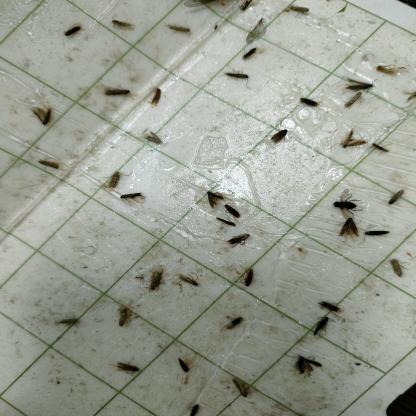prays_oleae: (102, 73, 132, 106), (287, 351, 317, 382), (226, 368, 251, 405), (113, 349, 140, 383), (140, 85, 165, 121), (34, 152, 64, 182), (346, 70, 378, 98), (54, 308, 84, 334), (340, 123, 366, 151), (34, 92, 52, 131), (376, 52, 400, 81), (145, 262, 165, 296), (143, 127, 169, 153), (174, 267, 202, 291), (312, 311, 333, 343), (316, 292, 342, 317), (246, 18, 271, 44), (359, 222, 388, 244), (369, 134, 391, 162), (385, 183, 406, 212), (338, 215, 360, 242), (115, 300, 135, 329), (176, 351, 195, 381), (387, 251, 405, 282), (164, 19, 192, 38), (223, 64, 252, 82), (109, 15, 135, 35), (224, 230, 250, 250), (342, 92, 368, 112), (240, 38, 261, 62), (60, 24, 85, 42), (270, 123, 286, 150), (104, 166, 120, 192), (300, 90, 320, 110), (287, 4, 311, 20), (223, 200, 242, 220), (241, 260, 255, 286), (224, 315, 242, 332), (119, 190, 139, 204), (206, 191, 219, 210), (216, 217, 236, 227), (187, 406, 201, 414)
